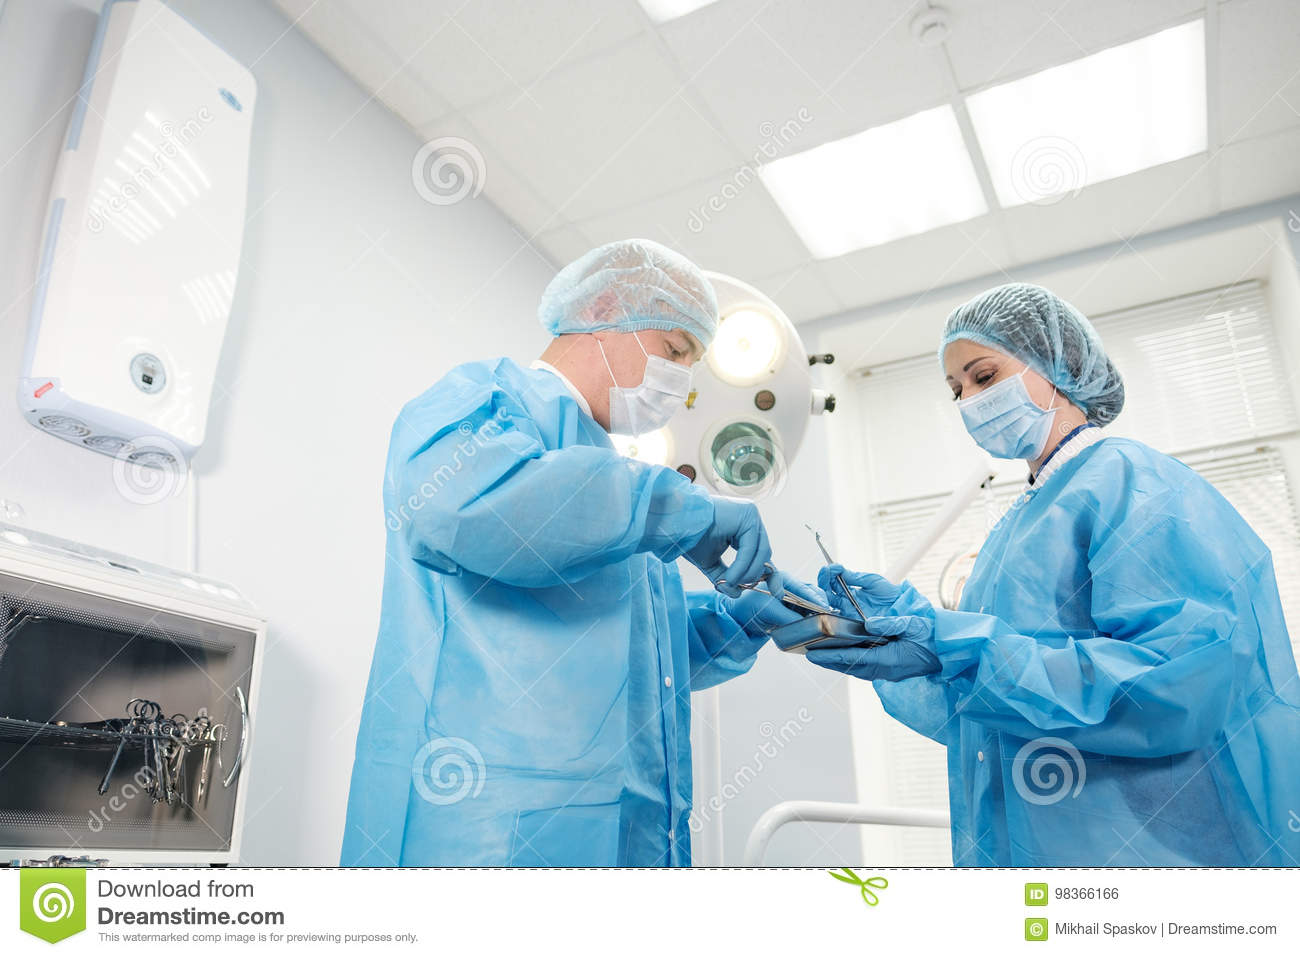mask: (958, 382, 1067, 452), (607, 364, 719, 429)
